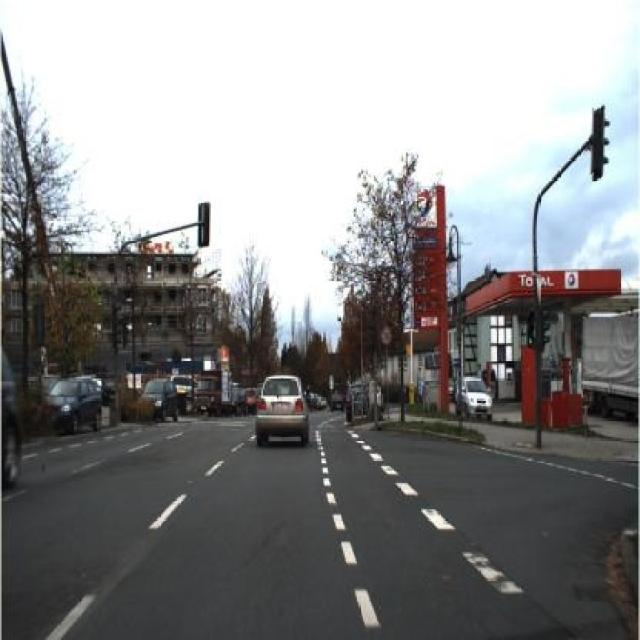forb_speed_over_30: (380, 325, 392, 347)
